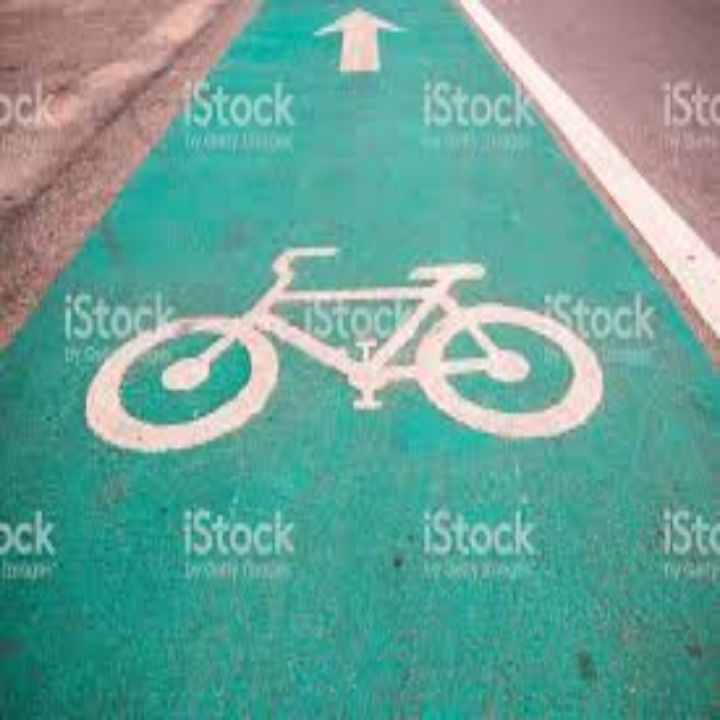bicycle: (87, 239, 601, 460)
